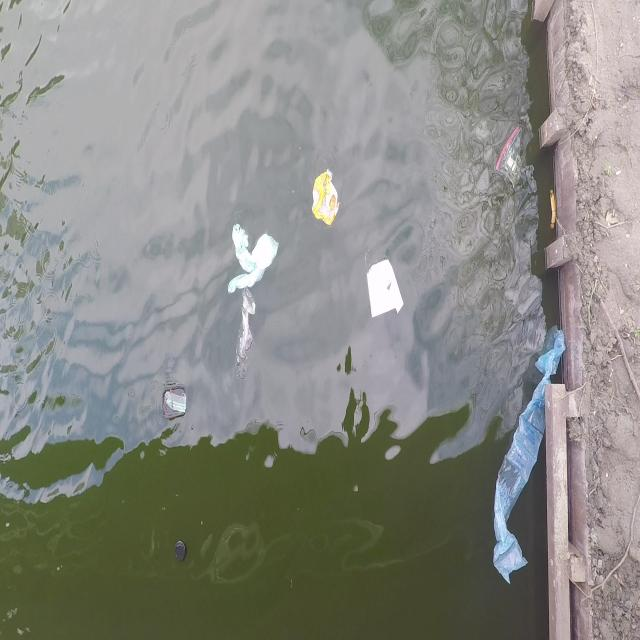Autre plastique: (366, 242, 404, 329), (156, 376, 192, 431)
Sac plastique: (488, 366, 546, 586), (224, 213, 282, 294), (305, 152, 348, 237), (232, 288, 259, 393), (491, 120, 528, 192)
